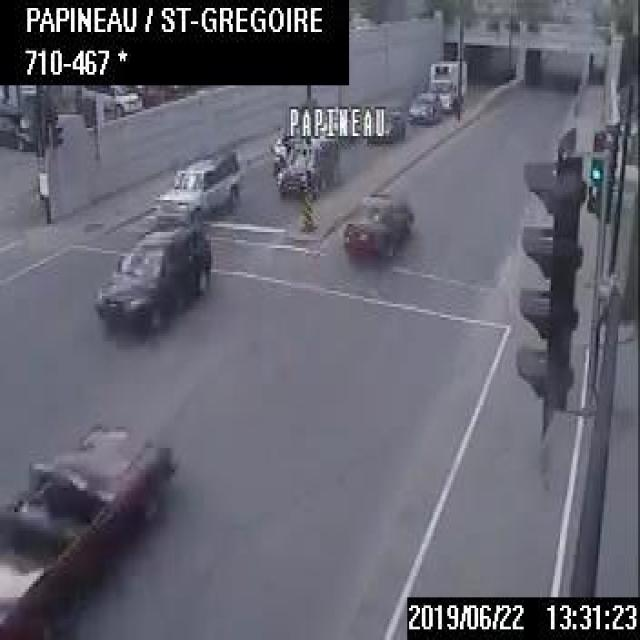vehicle: (0, 419, 169, 637), (96, 205, 208, 331), (155, 143, 249, 220), (338, 189, 415, 259), (274, 138, 340, 192), (427, 53, 467, 112), (80, 82, 145, 115), (363, 106, 407, 140), (407, 88, 443, 126)
